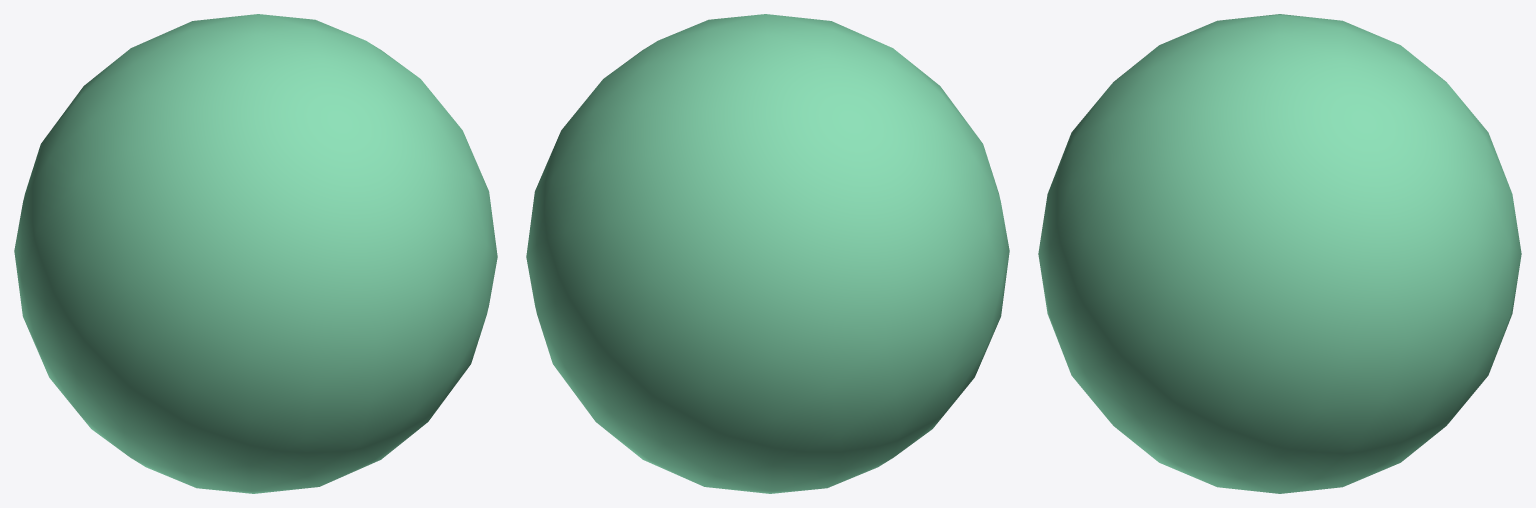
File: skull_sapiens.glb
3 views of the same model, side by side, from view 1: azimuth 30°, elevation 25°; view 2: azimuth 150°, elevation 25°; view 3: azimuth 270°, elevation 25° (orthographic).
Bounding box in the file's own units: 2 × 2 × 2.
